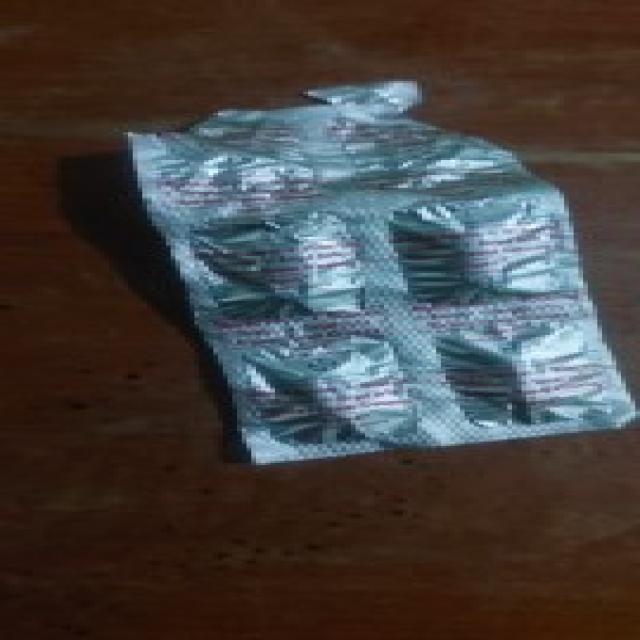Cacat: (127, 83, 638, 470)
Kemasan: (86, 51, 493, 179)
